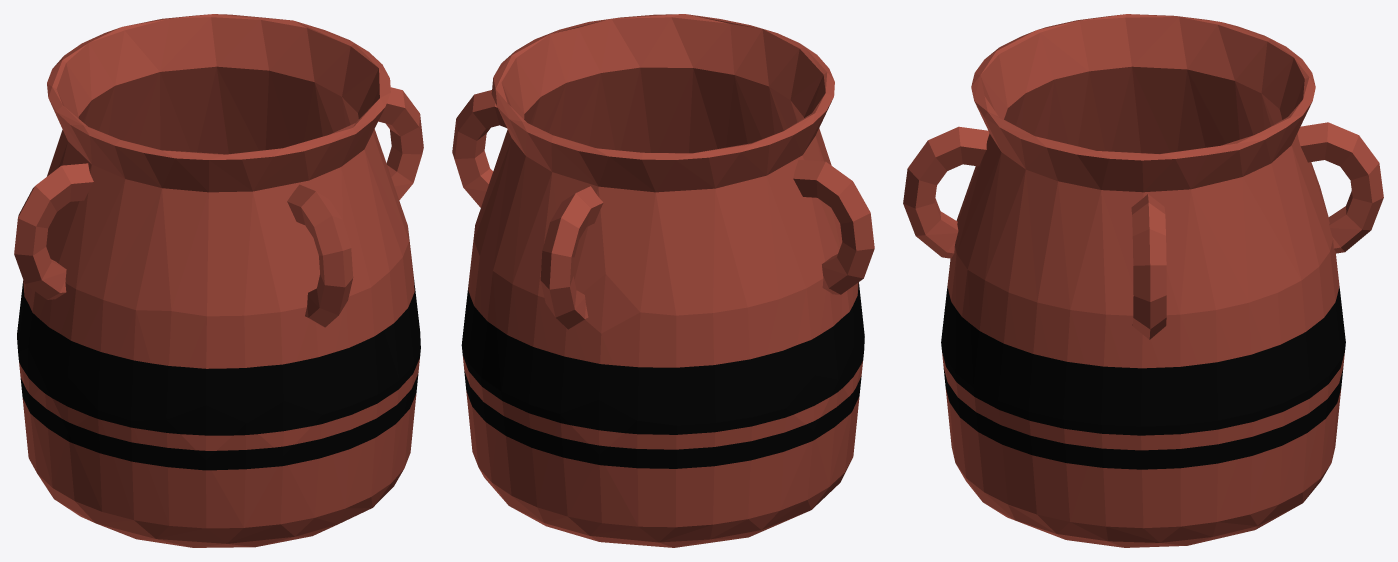
Rendered from Pottery 12_2.fbx.
The picture shows the model from 3 angles, left to right: view 1: azimuth 30°, elevation 25°; view 2: azimuth 150°, elevation 25°; view 3: azimuth 270°, elevation 25°; orthographic projection.
Parts seen in each view (by area): view 1: Pottery 12_2.001; view 2: Pottery 12_2.001; view 3: Pottery 12_2.001.
Part boxes in pixels (<box>): Pottery 12_2.001: <box>14,14,423,547</box>; Pottery 12_2.001: <box>452,14,874,547</box>; Pottery 12_2.001: <box>903,14,1383,547</box>.
Bounding box in the file's own units: 62.86 × 57.93 × 62.86.
